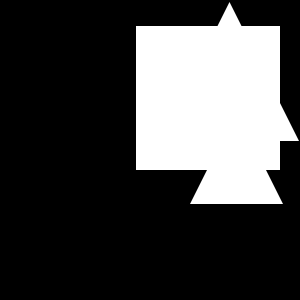circle: (136, 26, 280, 170)
triangle: (160, 2, 299, 141), (190, 111, 283, 204)
